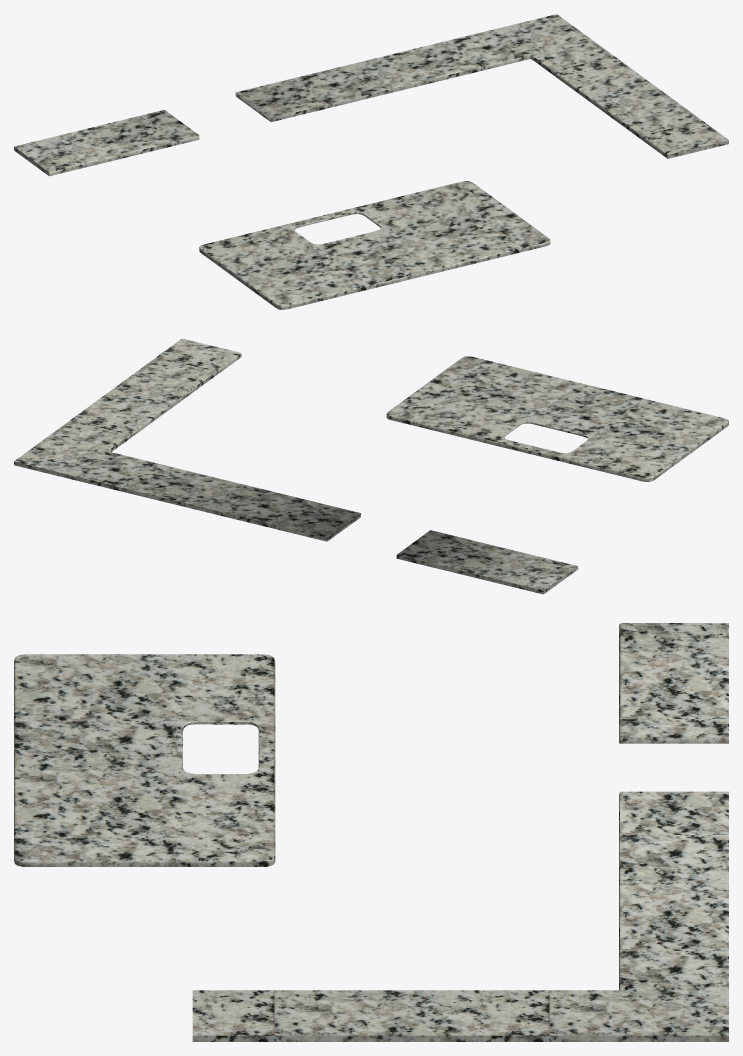
File: Countertops_GraniteValleNevado.glb
3 views of the same model, one above another, from view 1: azimuth 30°, elevation 25°; view 2: azimuth 150°, elevation 25°; view 3: azimuth 270°, elevation 25° (orthographic). The views are drawn at different scales.
Visible parts, largest first — view 1: Countertop_granite_valle_nevado.001; view 2: Countertop_granite_valle_nevado.001; view 3: Countertop_granite_valle_nevado.001.
Boxes of the visible parts, left/top/right/bottom form: Countertop_granite_valle_nevado.001: left=14, top=14, right=728, bottom=309; Countertop_granite_valle_nevado.001: left=14, top=338, right=728, bottom=594; Countertop_granite_valle_nevado.001: left=14, top=623, right=728, bottom=1041.
Bounding box in the file's own units: 7.1 × 0.07 × 5.2.
1 material, 1 textured.
